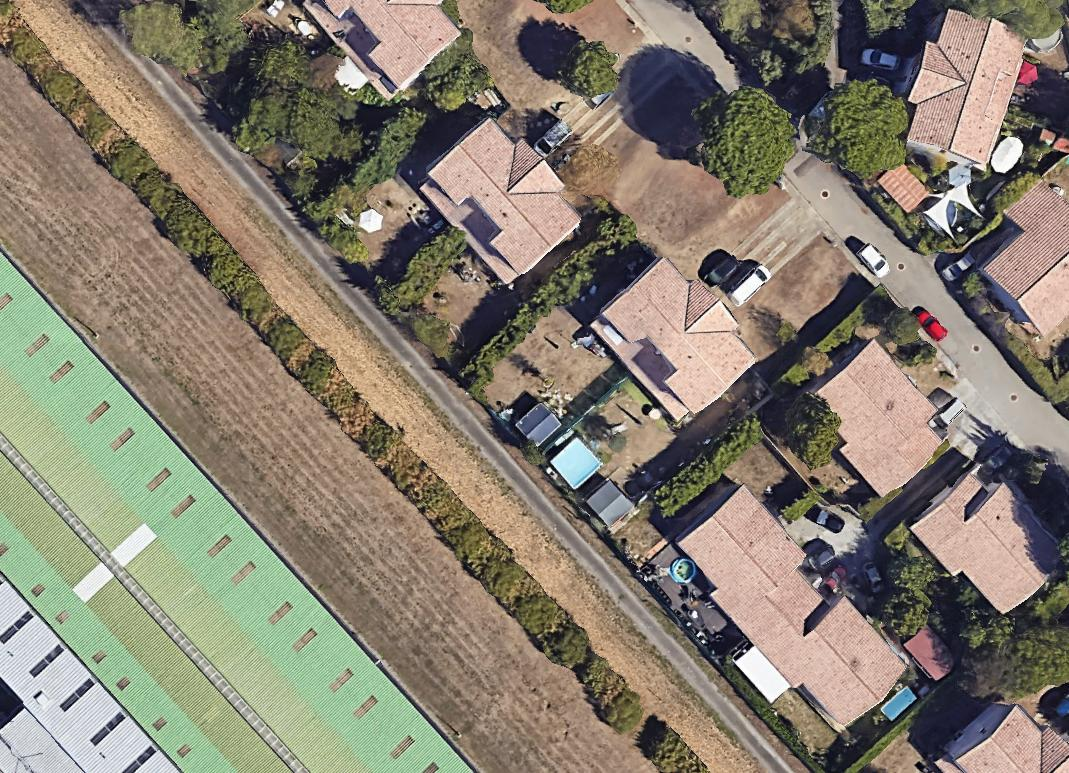maison: (668, 484, 912, 738), (583, 246, 767, 430), (411, 105, 592, 288), (908, 458, 1069, 625), (798, 338, 958, 501), (895, 4, 1030, 169), (961, 176, 1069, 340), (301, 0, 467, 102), (936, 704, 1068, 772)
